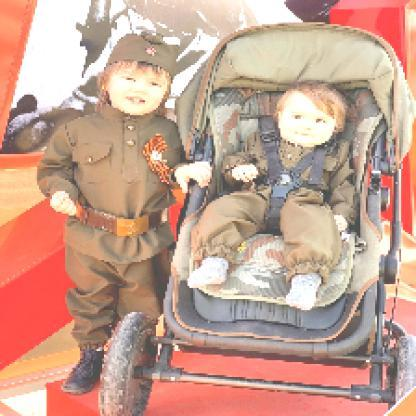child: (36, 32, 212, 396), (190, 81, 361, 312)
